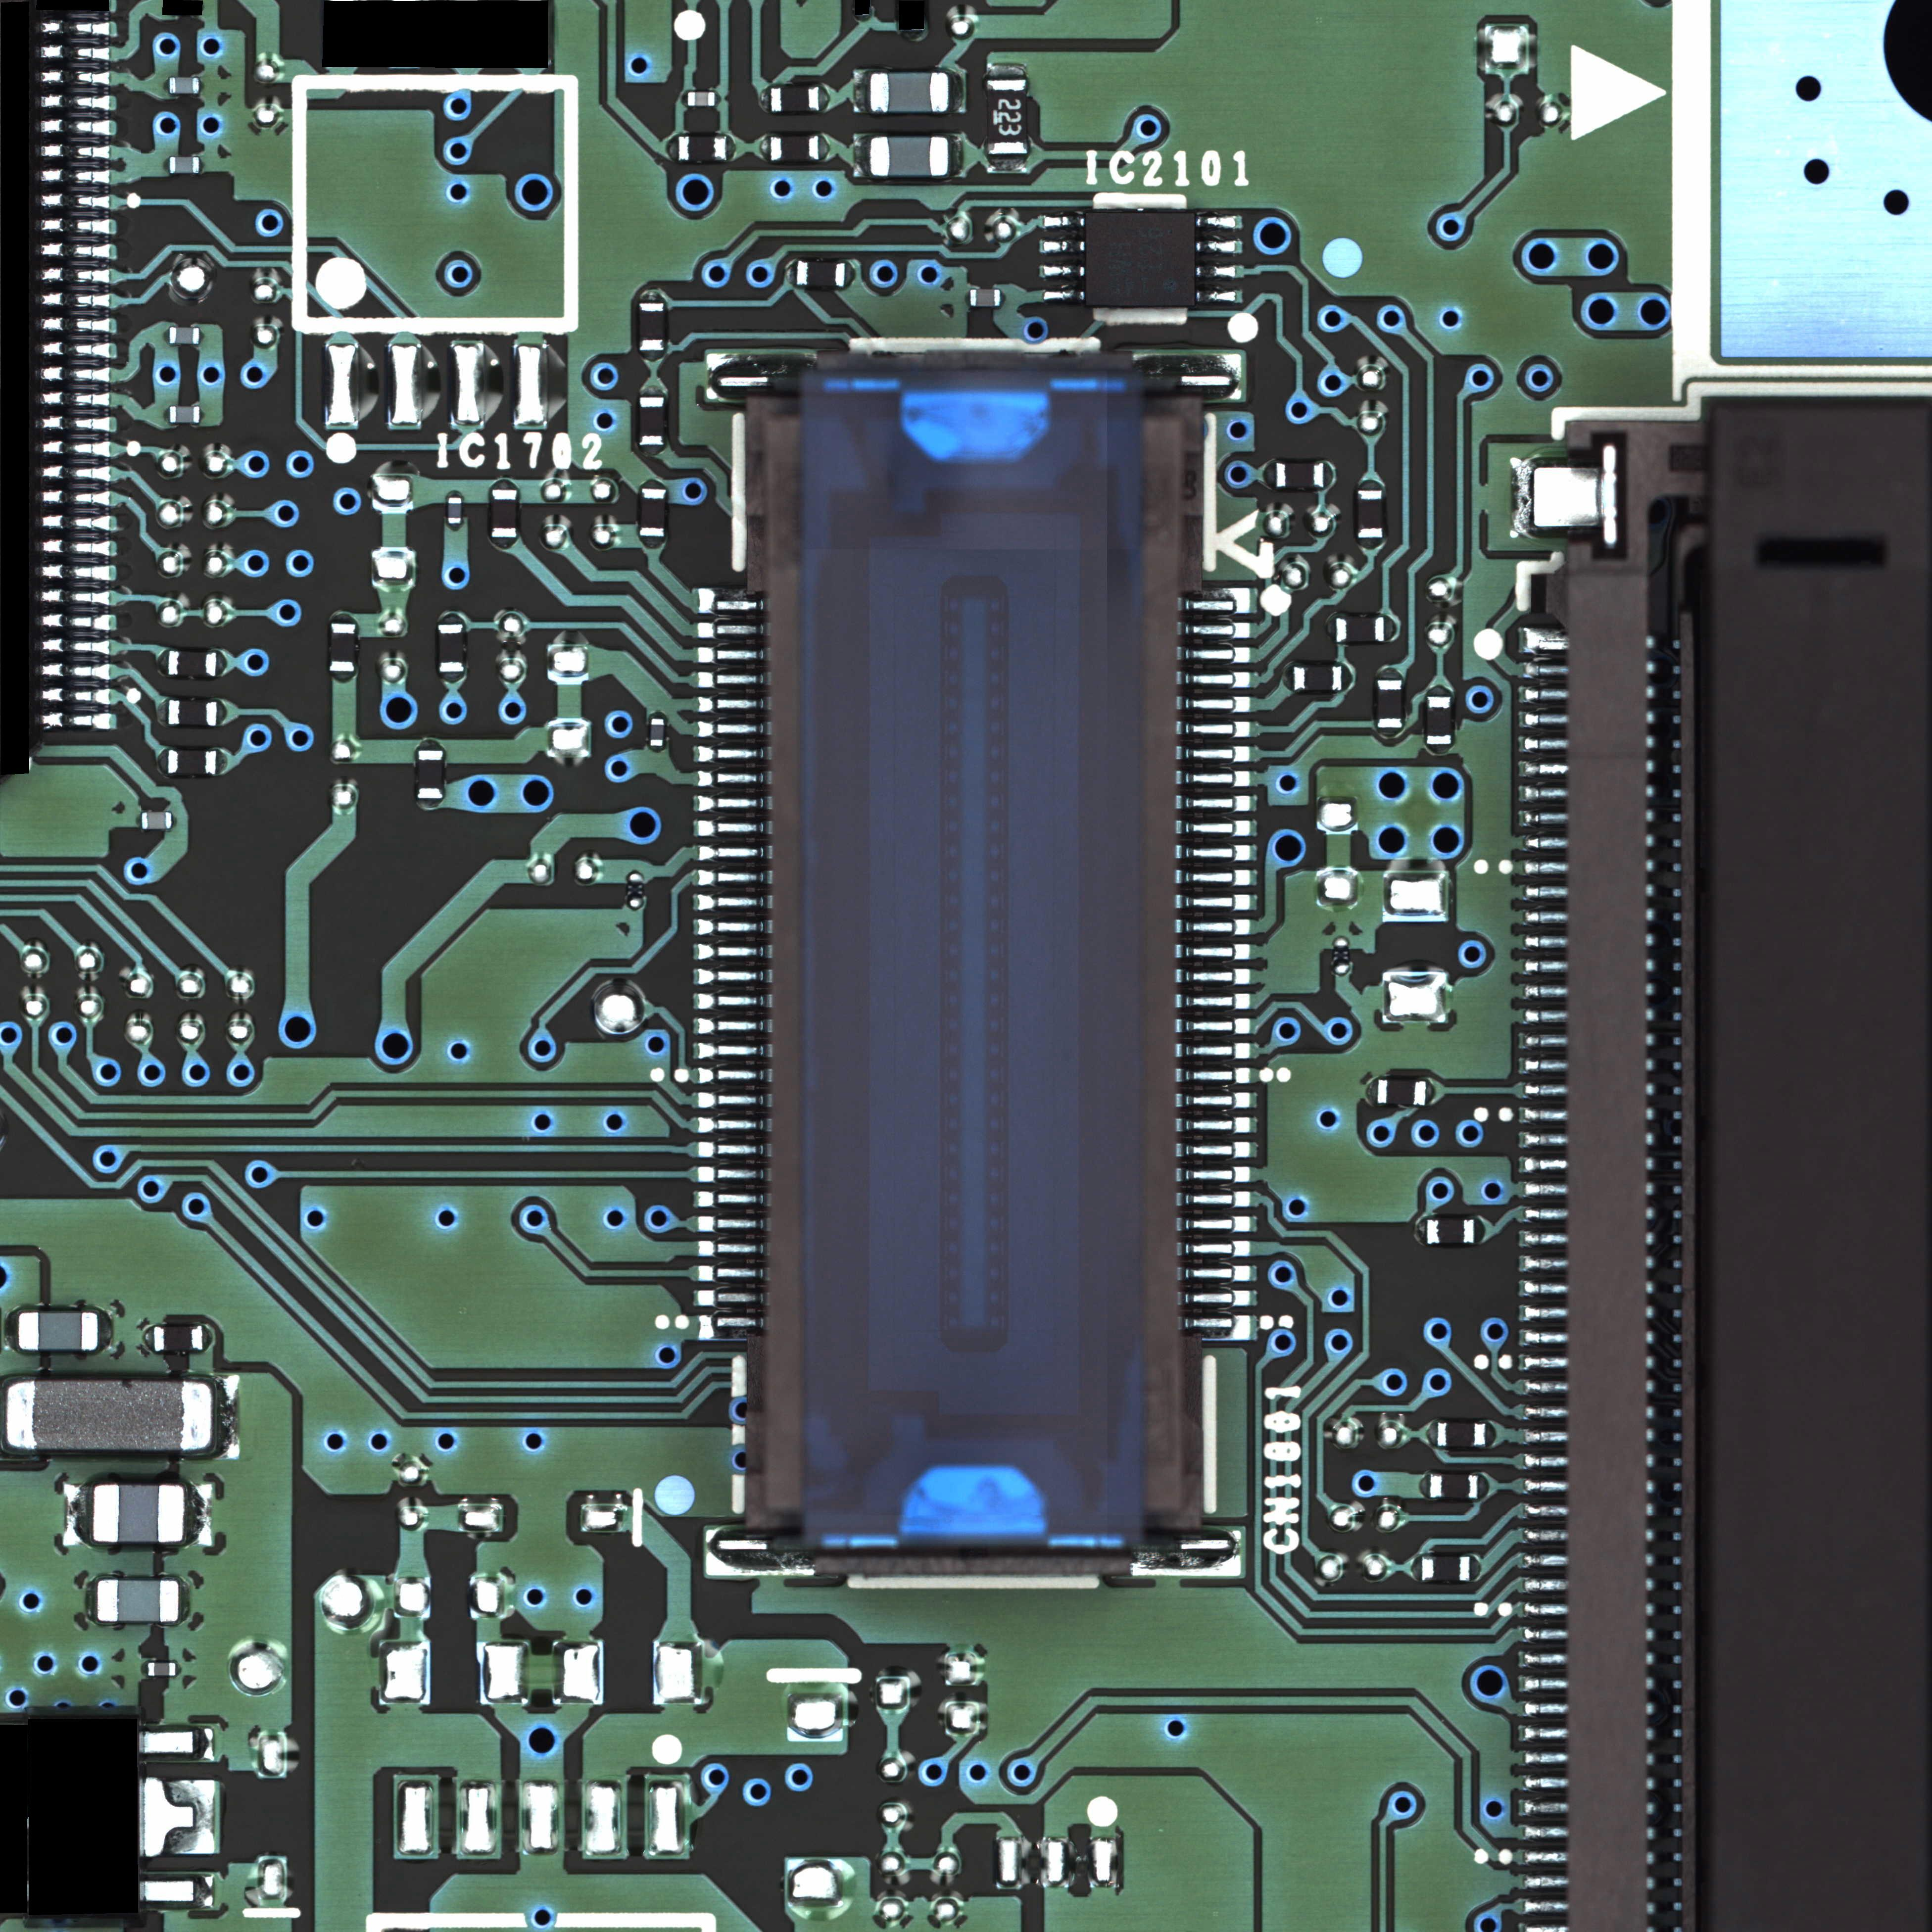Package: (5, 1380, 214, 1453), (1086, 212, 1196, 308), (88, 1481, 188, 1546), (869, 134, 952, 180), (18, 1309, 101, 1352), (97, 1580, 179, 1622), (867, 73, 950, 113), (985, 78, 1028, 154), (168, 699, 218, 727), (639, 303, 667, 350), (639, 488, 665, 538), (154, 1325, 203, 1352), (1421, 1555, 1470, 1582), (329, 623, 356, 672), (1376, 1079, 1426, 1106), (1376, 679, 1403, 729), (796, 260, 846, 287), (1336, 616, 1385, 642), (770, 134, 819, 161), (1426, 697, 1453, 745), (1357, 490, 1384, 538), (639, 398, 665, 446), (168, 651, 216, 678), (1276, 462, 1323, 488), (437, 625, 464, 672), (1293, 665, 1341, 692), (492, 488, 517, 538), (1437, 1422, 1486, 1447), (770, 87, 819, 111), (678, 136, 727, 161), (1428, 1217, 1474, 1244), (418, 750, 442, 798), (168, 750, 216, 775), (1430, 1474, 1477, 1499), (970, 288, 1001, 306), (170, 327, 200, 345), (170, 156, 200, 173), (170, 405, 200, 423), (142, 812, 172, 830), (170, 78, 200, 94), (651, 718, 665, 747), (448, 497, 462, 524), (688, 92, 715, 106), (147, 1663, 175, 1675)
Solder: (143, 1778, 214, 1856), (143, 1727, 214, 1762), (145, 1874, 214, 1907), (218, 1375, 241, 1460), (62, 1479, 88, 1546), (188, 1477, 212, 1548), (41, 168, 111, 186), (41, 464, 111, 481), (41, 589, 111, 607), (41, 44, 111, 60), (41, 69, 111, 85), (41, 143, 111, 159), (41, 242, 111, 258), (41, 267, 111, 283), (41, 368, 111, 384), (41, 490, 111, 506), (41, 19, 110, 35), (42, 94, 111, 110), (41, 119, 110, 134), (42, 193, 111, 209), (42, 218, 111, 234), (42, 292, 111, 308), (42, 317, 111, 333), (42, 341, 111, 357), (42, 391, 111, 407), (42, 515, 111, 531), (42, 540, 111, 556), (42, 564, 111, 580), (42, 614, 111, 630), (42, 441, 111, 456), (42, 416, 111, 432), (42, 639, 111, 655), (42, 663, 111, 679), (42, 690, 111, 706), (42, 713, 111, 729), (985, 154, 1030, 172), (950, 67, 966, 113), (853, 133, 869, 179), (853, 67, 867, 113), (952, 133, 966, 179), (1196, 265, 1237, 281), (1196, 288, 1237, 304), (179, 1576, 191, 1626), (85, 1576, 97, 1626), (5, 1306, 18, 1353), (1196, 241, 1237, 255), (1196, 216, 1237, 230), (987, 64, 1028, 78), (1042, 265, 1086, 278), (101, 1309, 113, 1353), (1044, 241, 1086, 253), (1042, 288, 1085, 301), (1044, 216, 1085, 228), (639, 384, 667, 398), (329, 609, 357, 623), (437, 610, 465, 625), (1281, 662, 1293, 694), (488, 538, 520, 550), (416, 738, 446, 750), (156, 649, 168, 678), (1323, 464, 1338, 488), (1385, 616, 1398, 644), (1375, 667, 1403, 679), (1470, 1555, 1483, 1583), (218, 748, 230, 777), (156, 748, 168, 777), (639, 538, 667, 550), (639, 350, 667, 363), (665, 134, 678, 163), (819, 85, 832, 113), (1426, 1079, 1438, 1106), (1263, 462, 1276, 488), (1477, 1474, 1490, 1500), (819, 134, 832, 161), (1357, 538, 1384, 550), (1426, 685, 1453, 697), (1414, 1217, 1426, 1244), (1417, 1472, 1430, 1499), (439, 672, 465, 685), (327, 672, 357, 683), (639, 446, 669, 456), (846, 260, 856, 290), (1474, 1217, 1486, 1242), (142, 1327, 154, 1352), (639, 290, 663, 303), (1366, 1077, 1376, 1106), (1343, 663, 1353, 692), (1376, 729, 1405, 740), (1426, 745, 1454, 755), (1410, 1555, 1421, 1583), (203, 1325, 214, 1353), (218, 649, 228, 678), (218, 699, 228, 727), (639, 478, 667, 488), (727, 134, 738, 163), (786, 260, 796, 288), (418, 798, 444, 809), (759, 134, 770, 161), (1426, 1421, 1437, 1447), (157, 701, 168, 727), (899, 30, 925, 41), (488, 479, 518, 488), (1486, 1422, 1497, 1447), (761, 85, 770, 113), (1357, 479, 1384, 488), (1325, 617, 1334, 642), (853, 14, 872, 23), (446, 524, 464, 533), (648, 747, 667, 754), (444, 490, 464, 497), (163, 157, 170, 175), (172, 812, 179, 830), (134, 812, 142, 830), (649, 711, 667, 718), (163, 78, 170, 94), (200, 329, 207, 345), (163, 407, 170, 423), (715, 92, 722, 106), (142, 1660, 147, 1677), (200, 78, 205, 96), (163, 327, 168, 345), (681, 90, 686, 108), (964, 290, 970, 306), (177, 1661, 182, 1677), (200, 157, 205, 173), (200, 407, 205, 423), (1001, 292, 1007, 306)
